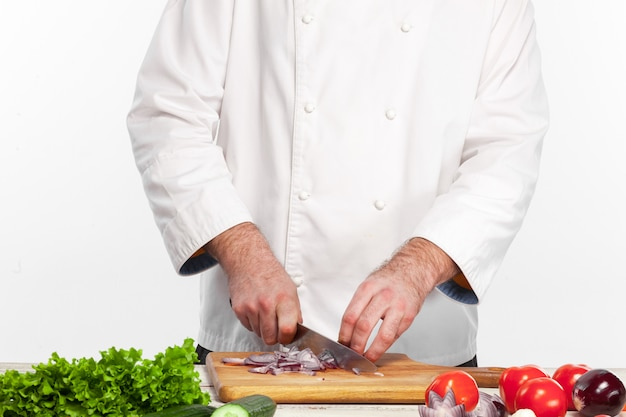knife: (274, 317, 380, 375)
